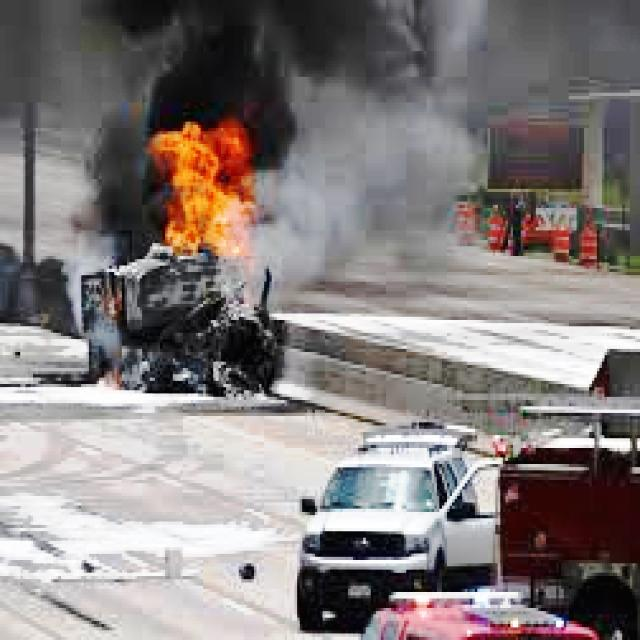api: (143, 117, 265, 264)
